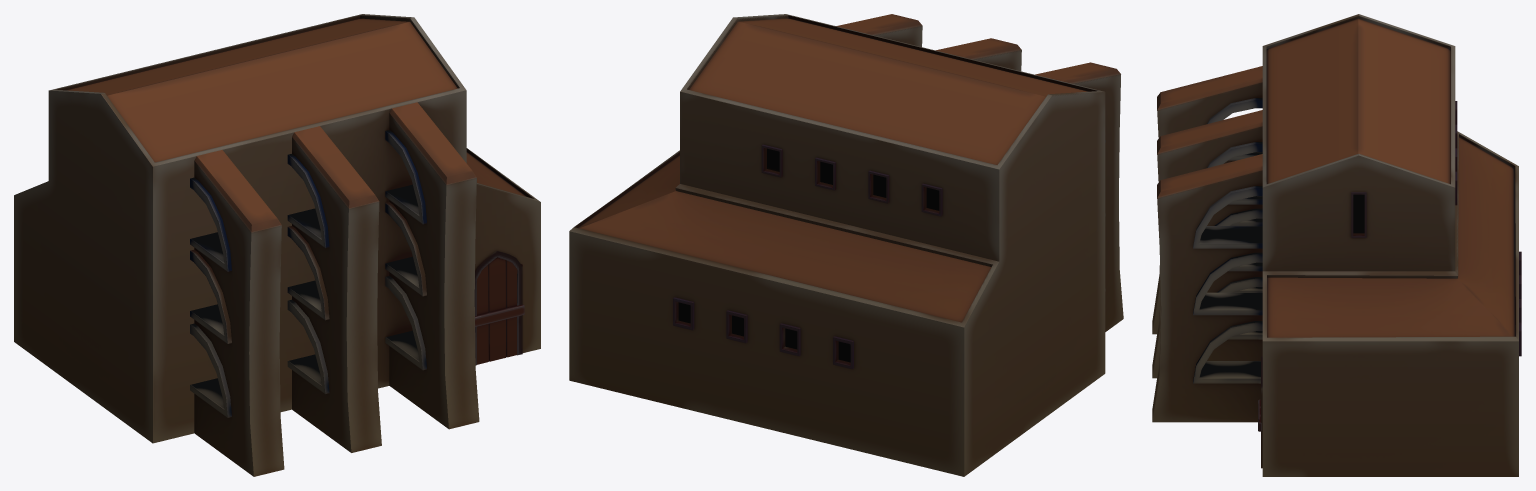
File: byztev2.fbx
3 views of the same model, side by side, from view 1: azimuth 30°, elevation 25°; view 2: azimuth 150°, elevation 25°; view 3: azimuth 270°, elevation 25° (orthographic). The views are drawn at different scales.
Parts seen in each view (by area): view 1: Cube.004, Cube.005; view 2: Cube.004; view 3: Cube.004.
Part boxes in pixels (bbox=[...]): Cube.004: bbox=[14, 14, 540, 476]; Cube.005: bbox=[475, 257, 524, 364]; Cube.004: bbox=[569, 14, 1123, 476]; Cube.004: bbox=[1152, 14, 1521, 476].
Size of the model in its own units: 553 by 424 by 493.
Materials: 1 (1 with a texture image).
